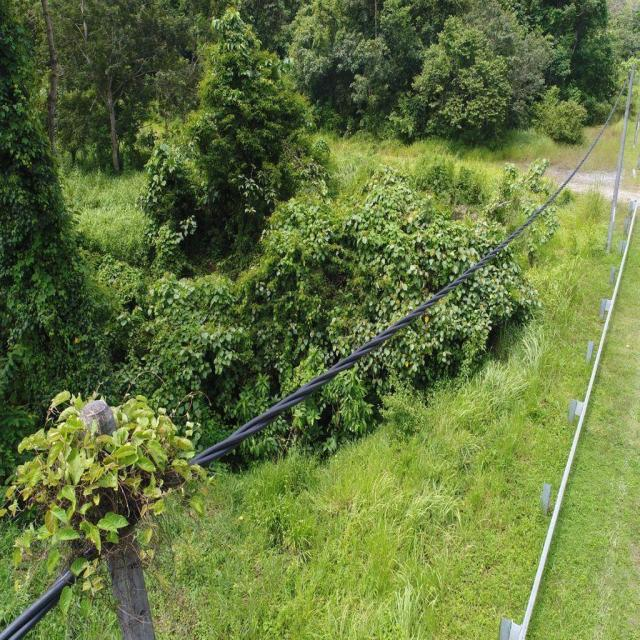critical vegetation: (0, 379, 212, 597)
